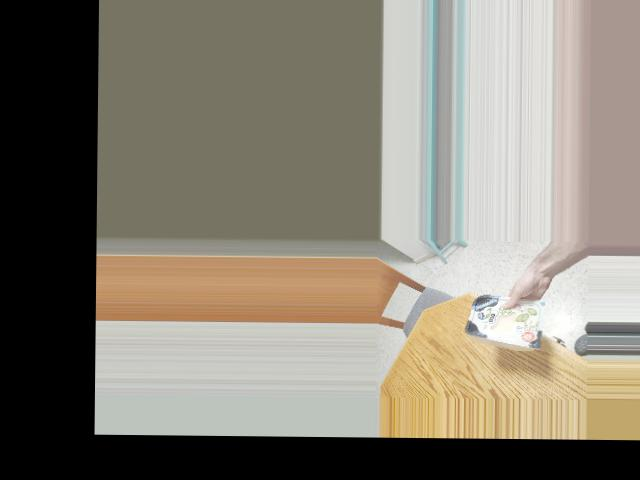cheese: (462, 290, 549, 340)
